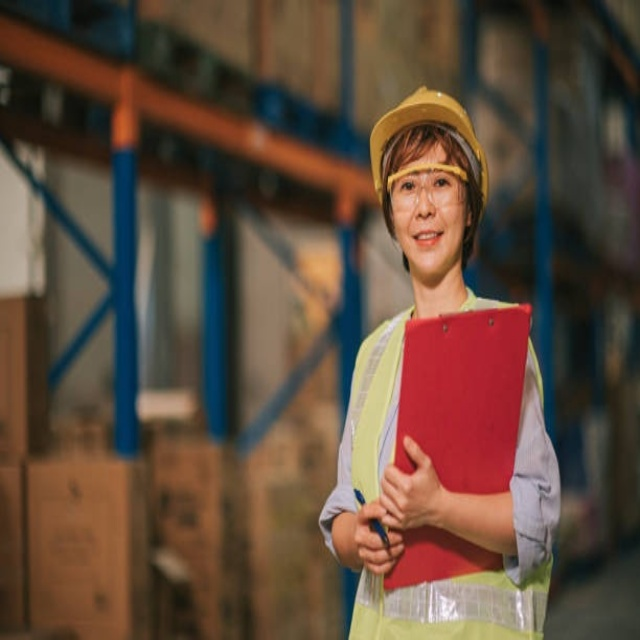Gafas: (388, 171, 469, 216)
Sin_guantes: (376, 433, 445, 531), (352, 497, 404, 574)
Sin_mascara: (409, 223, 447, 263)
